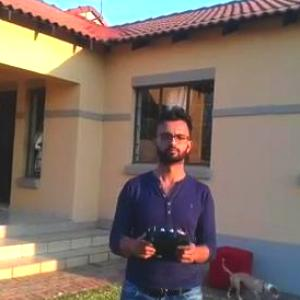follow: (104, 104, 223, 299)
null: (214, 253, 284, 299)
